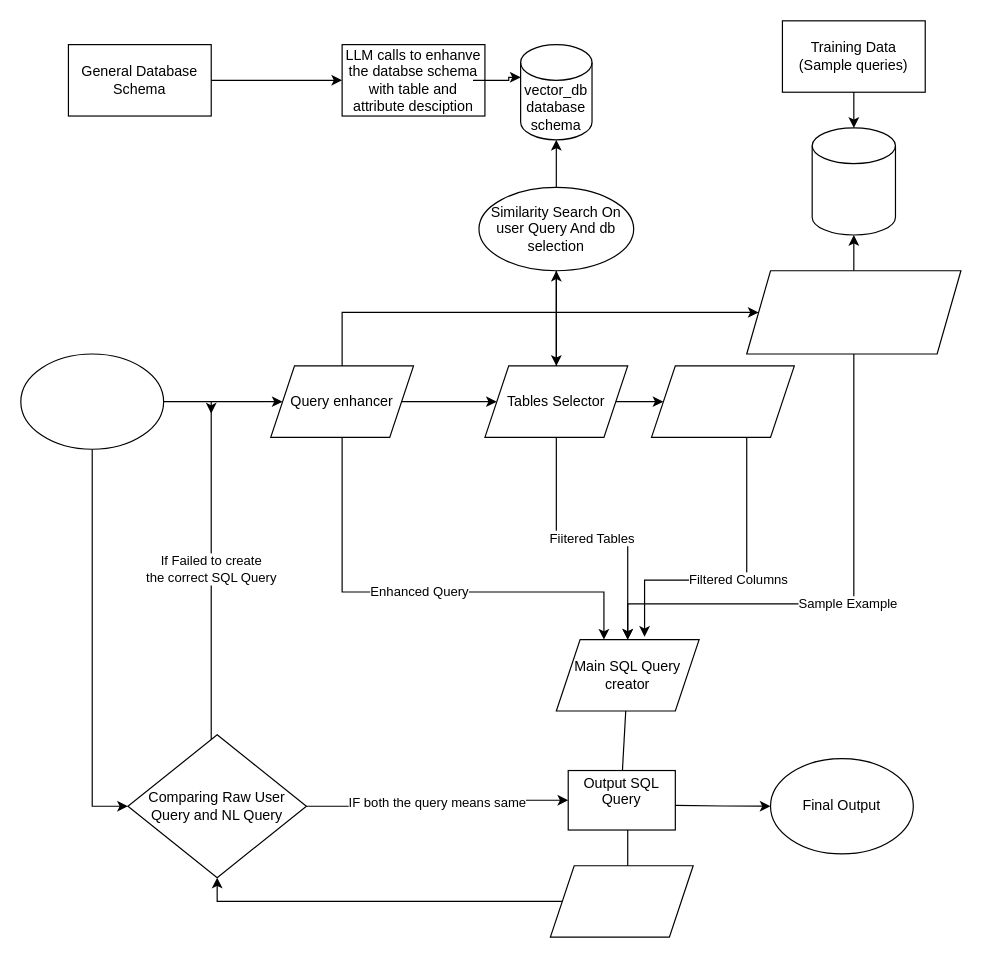
Image size: 982x958. Some labels were removed from this diagram. Each missing label, with the centre of its shape:
"Column Pruning" goes at point 722,401.
"Raw User Query" goes at point 92,401.
"Sample NL & SQL Query" goes at point 853,181.
"Similarity Search for getting relevant examples" goes at point 853,312.
"SQL Query to NL Query" goes at point 621,901.
